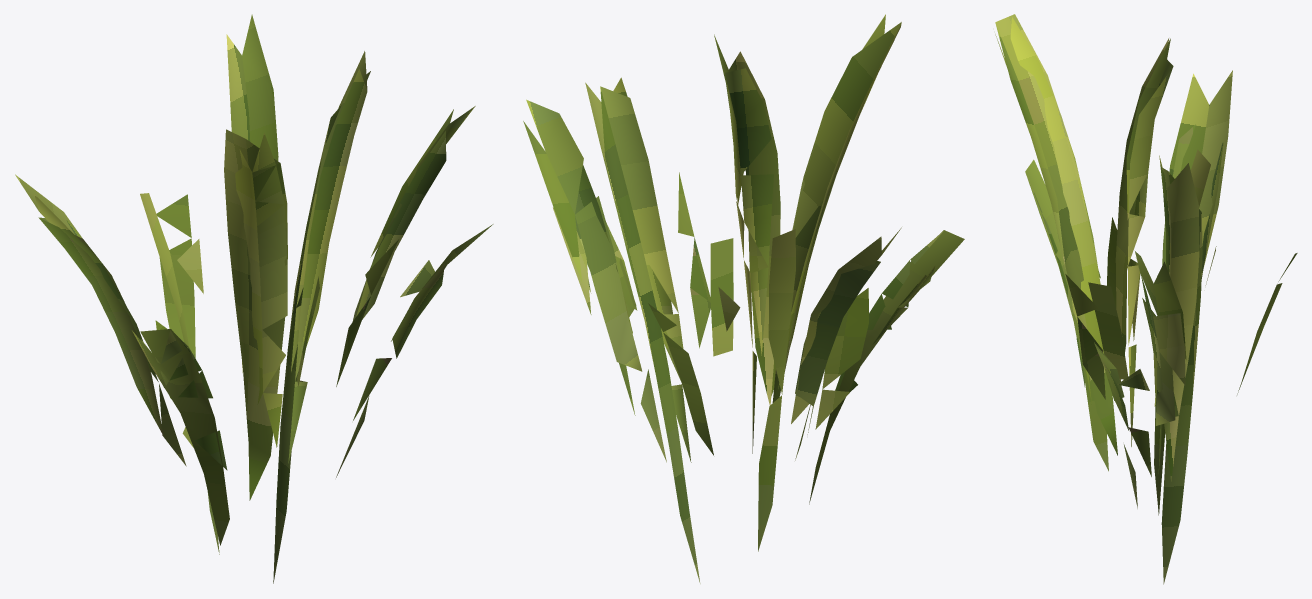
Rendered from midori_meshy_ground_clump_v1.glb.
3 renders of one model, left to right at view 1: azimuth 30°, elevation 25°; view 2: azimuth 150°, elevation 25°; view 3: azimuth 270°, elevation 25°, orthographic. The views are drawn at different scales.
Visible parts, largest first — view 1: world; view 2: world; view 3: world.
Part boxes in pixels (x1,y1,x2,y2): world: (15, 14, 493, 583); world: (523, 14, 964, 583); world: (995, 14, 1297, 584).
Bounding box in the file's own units: 0.6035 × 0.7969 × 0.4082.
Materials: 1 (1 with a texture image).
